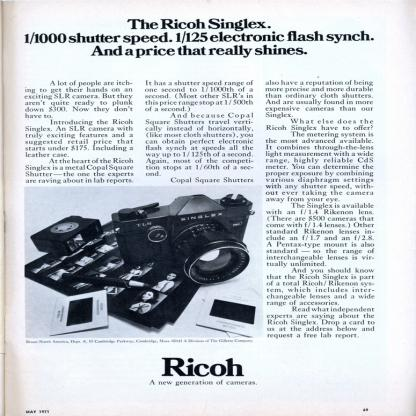Camera: (113, 193, 258, 289)
